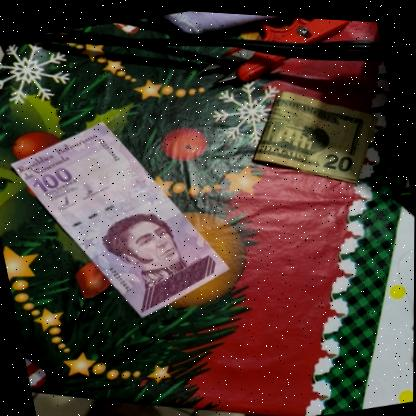one_hundred-front-vef: (2, 93, 237, 341)
